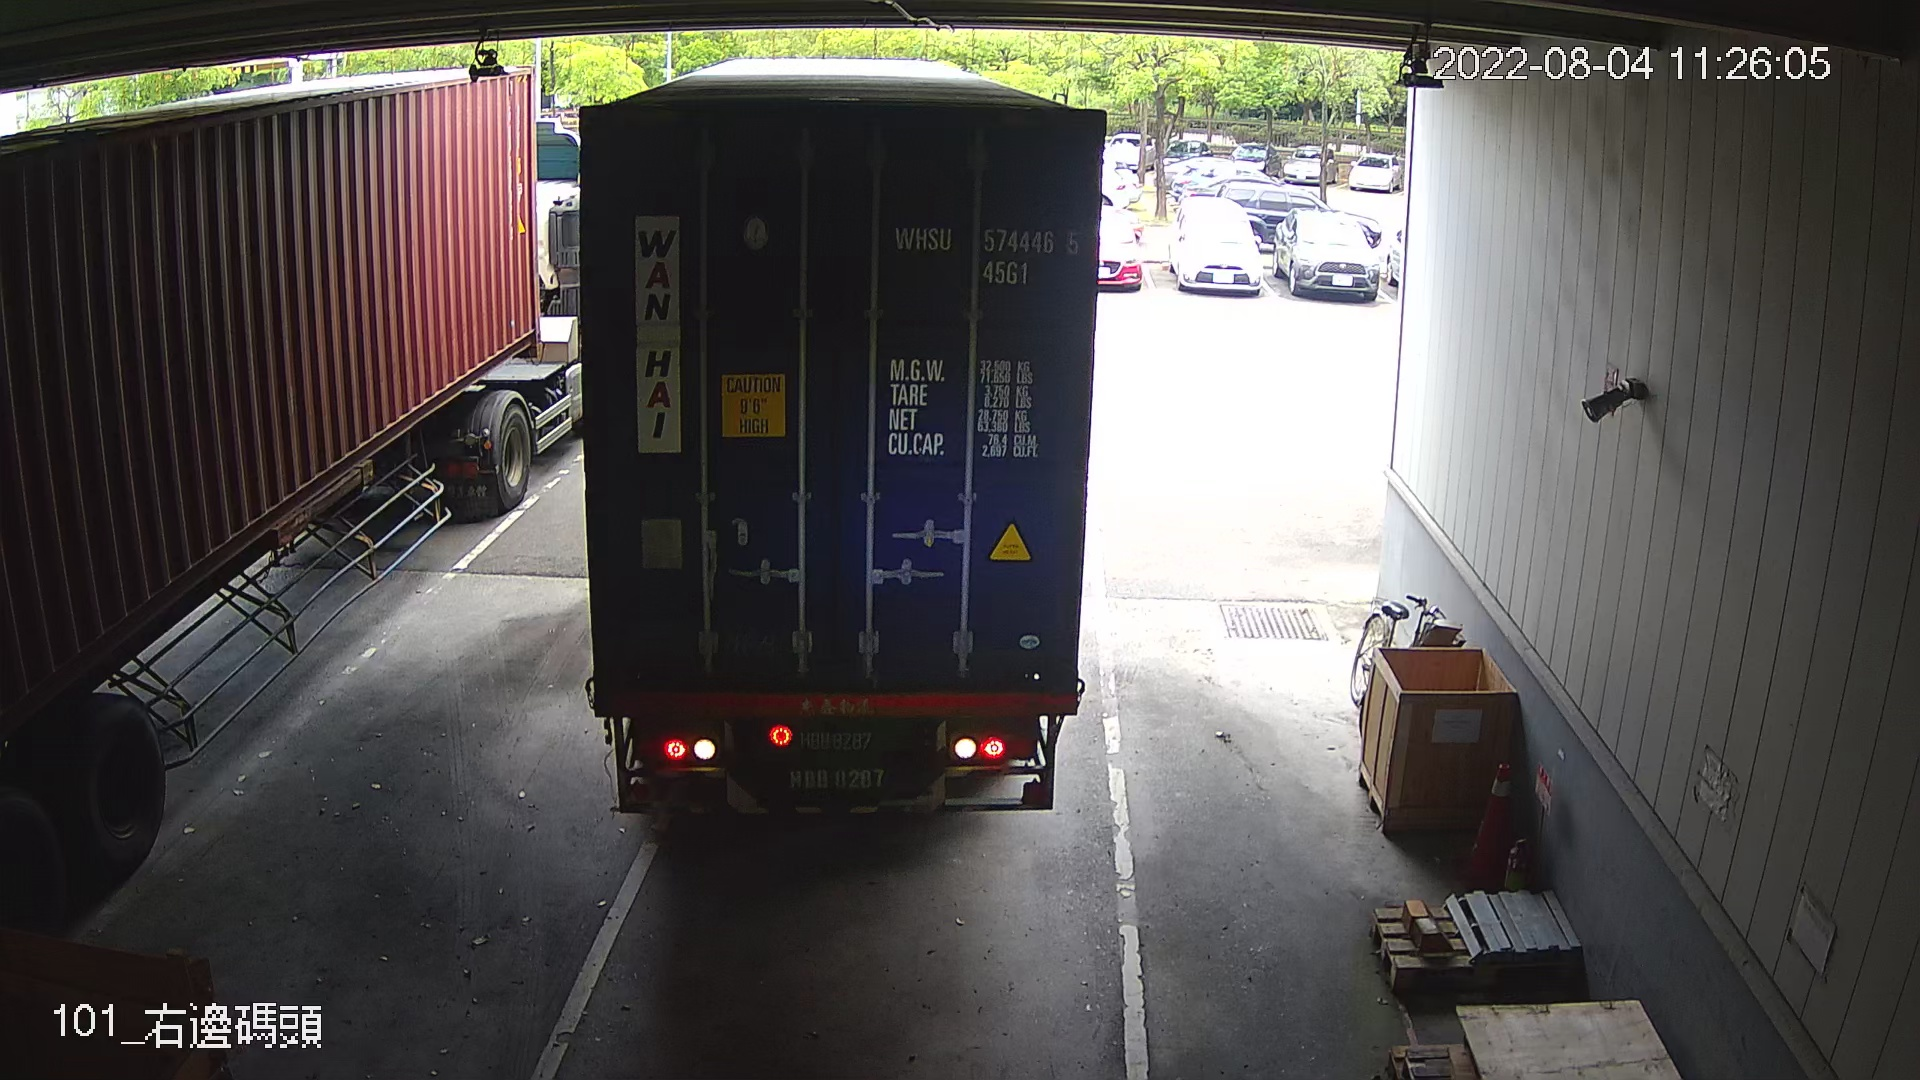container: (885, 210, 1088, 295)
